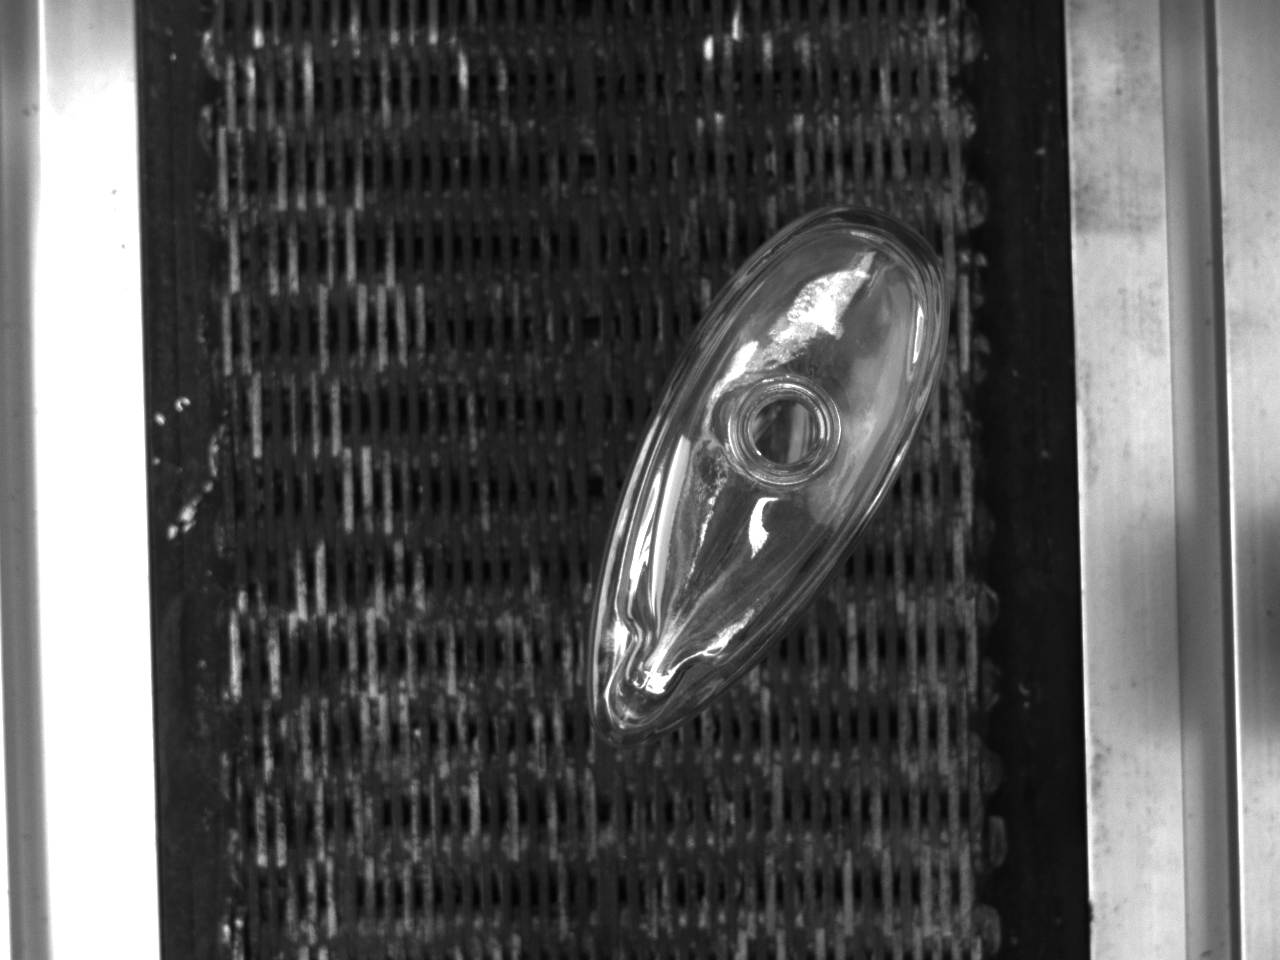bottleneck: (735, 377, 842, 485)
